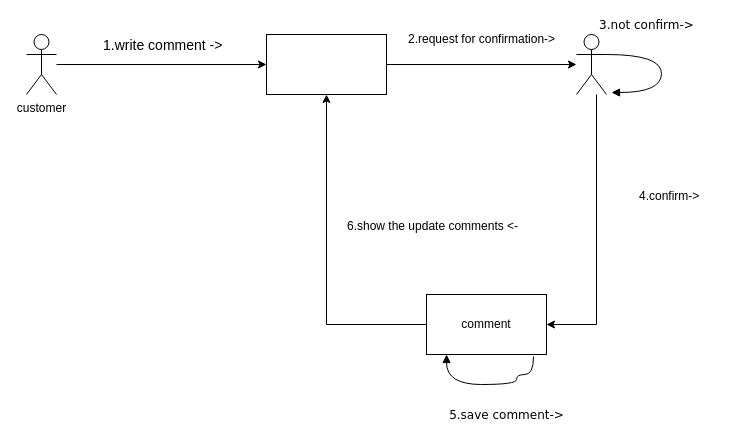
This 735x438 diagram has some shape labels left out. The centre of each missing label's shape, as x and y in pixels:
"admin" belongs at [591,64].
"system" belongs at [326,64].
